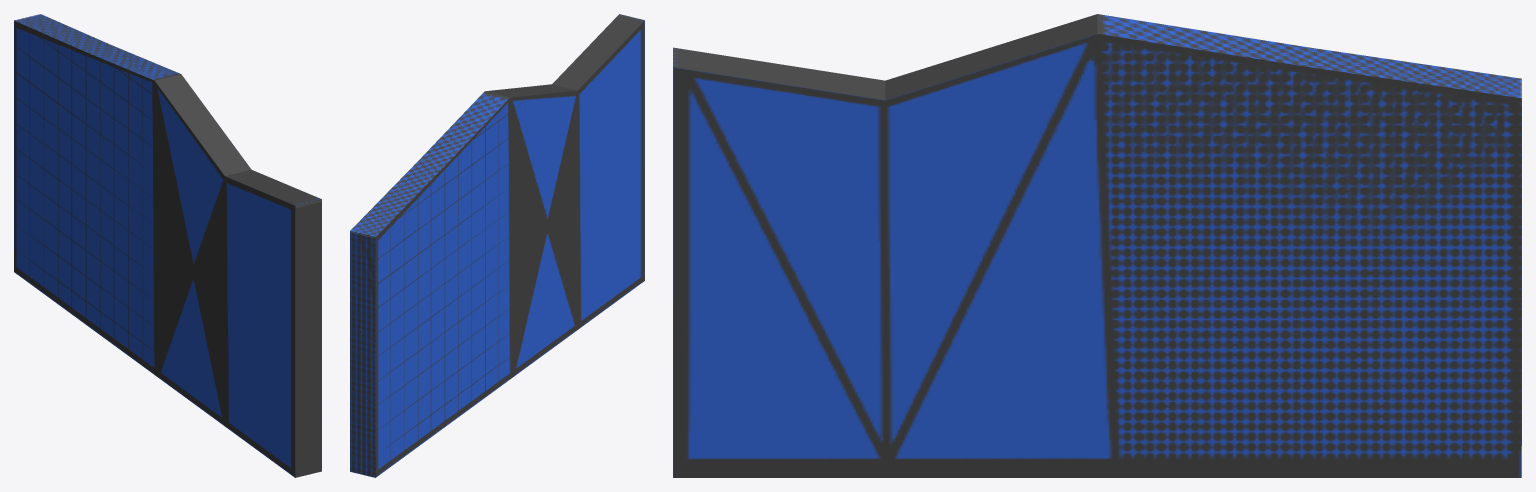
The model's file is wall3-lp.fbx.
3 views of the same model, side by side, from view 1: azimuth 30°, elevation 25°; view 2: azimuth 150°, elevation 25°; view 3: azimuth 270°, elevation 25° (orthographic). The views are drawn at different scales.
Visible parts, largest first — view 1: Wall3; view 2: Wall3; view 3: Wall3.
Boxes of the visible parts, box(x1,y1,x2,y2) form: Wall3: box(14, 14, 321, 477); Wall3: box(350, 14, 644, 477); Wall3: box(673, 14, 1521, 477).
Size of the model in its own units: 20.54 by 216 by 375.
1 material, 1 textured.
